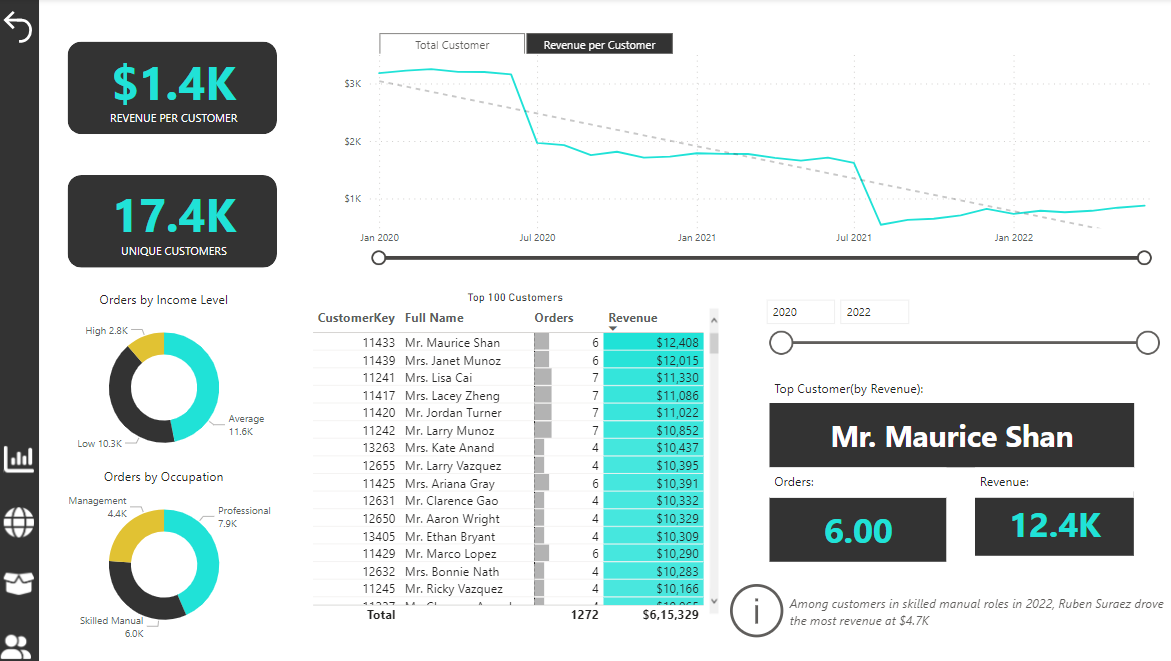

Layout of this report page (visuals, bound fields, positions):
{"tool":"powerbi","page":{"name":"Customer Detail","canvas":[1280,720],"ordinal":3},"visuals":[{"type":"shape","box":[0,0,45,720.4],"z":0},{"type":"actionButton","box":[3.8,477.3,45.3,40.4],"z":0,"group":"g1"},{"type":"shape","box":[76.1,190.2,225.7,100],"z":1000},{"type":"actionButton","box":[3.8,544.7,45.3,40.4],"z":1000,"group":"g1"},{"type":"shape","box":[76.5,46.9,225.9,100],"z":2000},{"type":"actionButton","box":[3.8,612.1,45.3,40.4],"z":2000,"group":"g1"},{"type":"card","fields":{"Values":["Measure Table.Average Revenue per Customer"]},"box":[60.5,0,260.8,192.8],"z":3000},{"type":"actionButton","box":[0,679.5,76,40.4],"z":3000,"group":"g1"},{"type":"card","fields":{"Values":["Measure Table.Total Customer"]},"box":[60,142.8,261.7,193.3],"z":4000},{"type":"lineChart","fields":{"Category":["Calendar Lookup.Date Hierarchy.Start of Year","Calendar Lookup.Date Hierarchy.Start of Month","Calendar Lookup.Date Hierarchy.Start of Week","Calendar Lookup.Date Hierarchy.Date"],"Y":["Measure Table.Average Revenue per Customer"]},"box":[368.9,46.9,894.7,244.3],"z":5000},{"type":"donutChart","title":"Orders by Income Level","fields":{"Category":["Customer Lookup.Income Level"],"Y":["Measure Table.Total Orders"]},"box":[60.5,315.6,240,190.9],"z":6000},{"type":"donutChart","title":"Orders by Occupation","fields":{"Category":["Customer Lookup.Occupation"],"Y":["Measure Table.Total Orders"]},"box":[60.5,506.5,240,190.9],"z":7000},{"type":"tableEx","title":"Top 100 Customers","fields":{"Values":["Customer Lookup.CustomerKey","Customer Lookup.Full Name","Measure Table.Total Orders","Measure Table.Total Revenue"]},"box":[334.9,315.5,448.2,362.4],"z":8000},{"type":"card","fields":{"Values":["Customer Lookup.Full Name (Customer Detail)"]},"box":[833.3,436.9,393.2,69.6],"z":9000},{"type":"card","fields":{"Values":["Measure Table.Total Orders(Customer Details)"]},"box":[833.3,538.8,190.9,69.6],"z":10000},{"type":"card","fields":{"Values":["Measure Table.Total Revenue (Customer Detail)"]},"box":[1054.9,532.3,171.5,69.6],"z":11000},{"type":"textbox","box":[833.3,406.1,190.9,30.7],"z":12000},{"type":"textbox","box":[833.3,506.4,190.9,32.4],"z":13000},{"type":"textbox","box":[1054.9,506.4,171.5,32.4],"z":14000},{"type":"slicer","fields":{"Values":["Calendar Lookup.Year"]},"box":[817.1,315.5,444.9,69.6],"z":15000},{"type":"actionButton","box":[783.1,624.5,480.5,72.8],"z":16000},{"type":"actionButton","box":[0,1.6,45.3,58.2],"z":17000},{"type":"group","id":"g1","title":"Navigation Buttons","box":[0,477.3,76,242.7],"z":18000},{"type":"slicer","fields":{"Values":["Customer Metric Selection.Customer Metric Selection"]},"box":[386.7,30.7,365.7,29.1],"z":18001}]}

Visuals, with their boxes on the page's 1280x720 design canvas (x1, y1, x2, y2). These are canvas units, not pixel positions in the 1171x661 screenshot, which may show the page scaled, cropped or inside an application window:
shape: x1=0 y1=0 x2=45 y2=720
actionButton: x1=4 y1=477 x2=49 y2=518
shape: x1=76 y1=190 x2=302 y2=290
actionButton: x1=4 y1=545 x2=49 y2=585
shape: x1=76 y1=47 x2=302 y2=147
actionButton: x1=4 y1=612 x2=49 y2=652
card - Measure Table.Average Revenue per Customer: x1=60 y1=0 x2=321 y2=193
actionButton: x1=0 y1=680 x2=76 y2=720
card - Measure Table.Total Customer: x1=60 y1=143 x2=322 y2=336
lineChart - Calendar Lookup.Date Hierarchy.Start of Year x Calendar Lookup.Date Hierarchy.Start of Month: x1=369 y1=47 x2=1264 y2=291
"Orders by Income Level" donutChart: x1=60 y1=316 x2=300 y2=506
"Orders by Occupation" donutChart: x1=60 y1=506 x2=300 y2=697
"Top 100 Customers" tableEx: x1=335 y1=316 x2=783 y2=678
card - Customer Lookup.Full Name (Customer Detail): x1=833 y1=437 x2=1226 y2=506
card - Measure Table.Total Orders(Customer Details): x1=833 y1=539 x2=1024 y2=608
card - Measure Table.Total Revenue (Customer Detail): x1=1055 y1=532 x2=1226 y2=602
textbox: x1=833 y1=406 x2=1024 y2=437
textbox: x1=833 y1=506 x2=1024 y2=539
textbox: x1=1055 y1=506 x2=1226 y2=539
slicer - Calendar Lookup.Year: x1=817 y1=316 x2=1262 y2=385
actionButton: x1=783 y1=624 x2=1264 y2=697
actionButton: x1=0 y1=2 x2=45 y2=60
"Navigation Buttons" group: x1=0 y1=477 x2=76 y2=720
slicer - Customer Metric Selection.Customer Metric Selection: x1=387 y1=31 x2=752 y2=60
